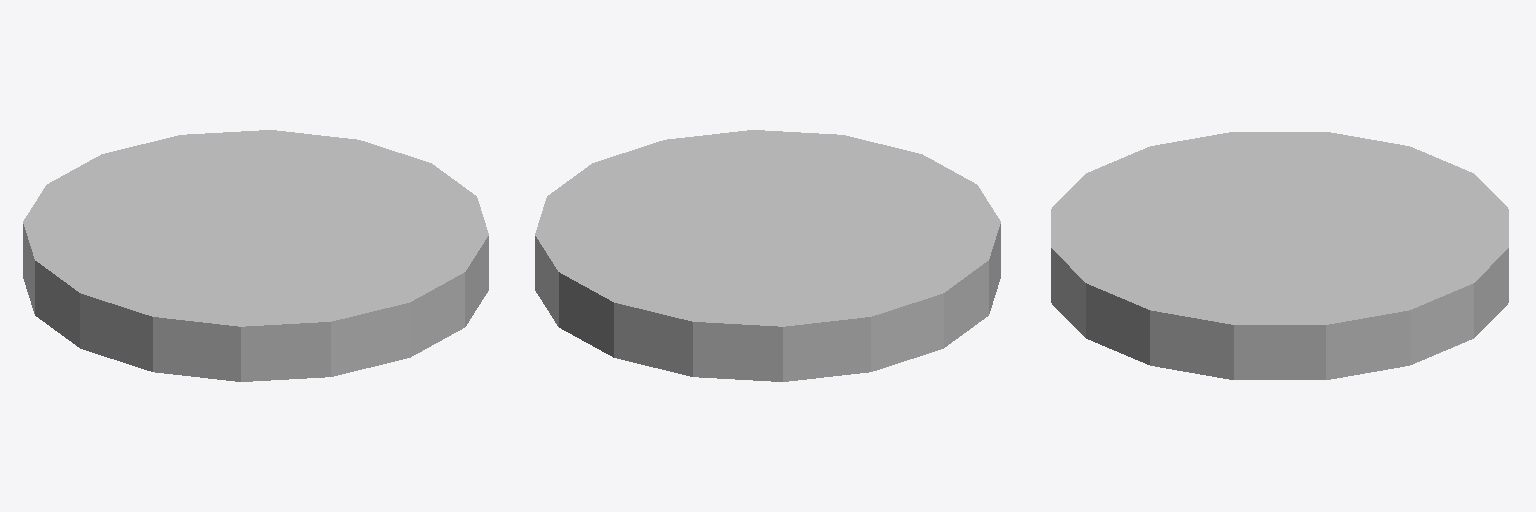
The model's file is Eridani_DockingMechanism_2_Collider.obj.
The picture shows the model from 3 angles: view 1: azimuth 30°, elevation 25°; view 2: azimuth 150°, elevation 25°; view 3: azimuth 270°, elevation 25°; orthographic projection.
Parts seen in each view (by area): view 1: Eridani_DockingMechanism_2_Collider; view 2: Eridani_DockingMechanism_2_Collider; view 3: Eridani_DockingMechanism_2_Collider.
Part boxes in pixels (left/top/right/bottom): Eridani_DockingMechanism_2_Collider: left=23, top=130, right=488, bottom=381; Eridani_DockingMechanism_2_Collider: left=535, top=130, right=1000, bottom=381; Eridani_DockingMechanism_2_Collider: left=1051, top=132, right=1508, bottom=379.
Size of the model in its own units: 0.9375 by 0.125 by 0.9375.